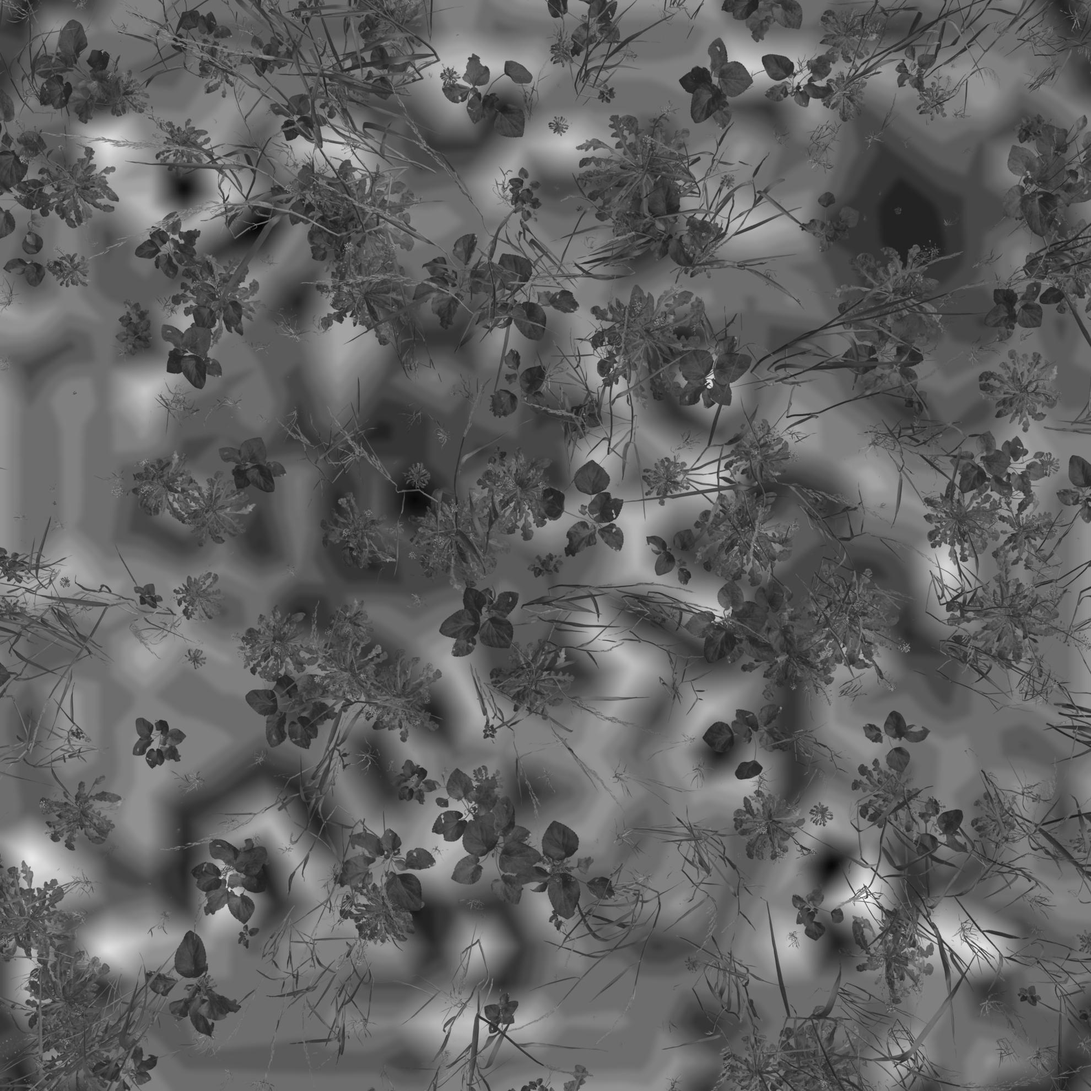landmine: (855, 186, 952, 267), (366, 451, 461, 533)
